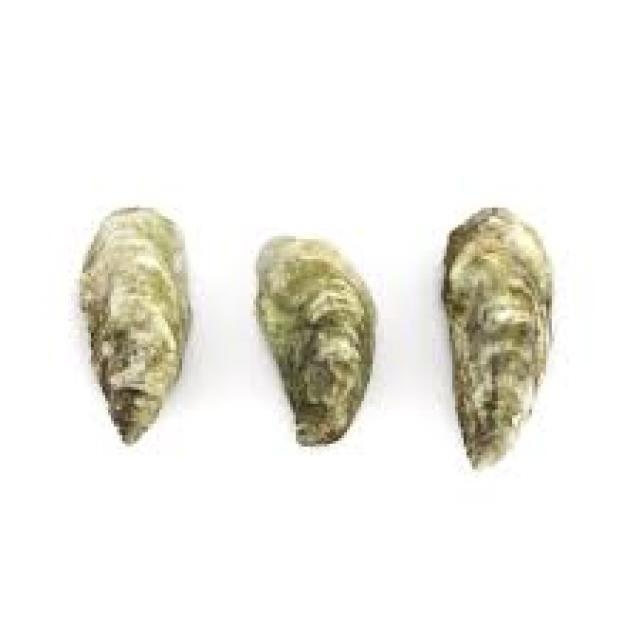Oyster- Indeterminate: (442, 208, 552, 467), (80, 208, 191, 443), (256, 236, 375, 445)
